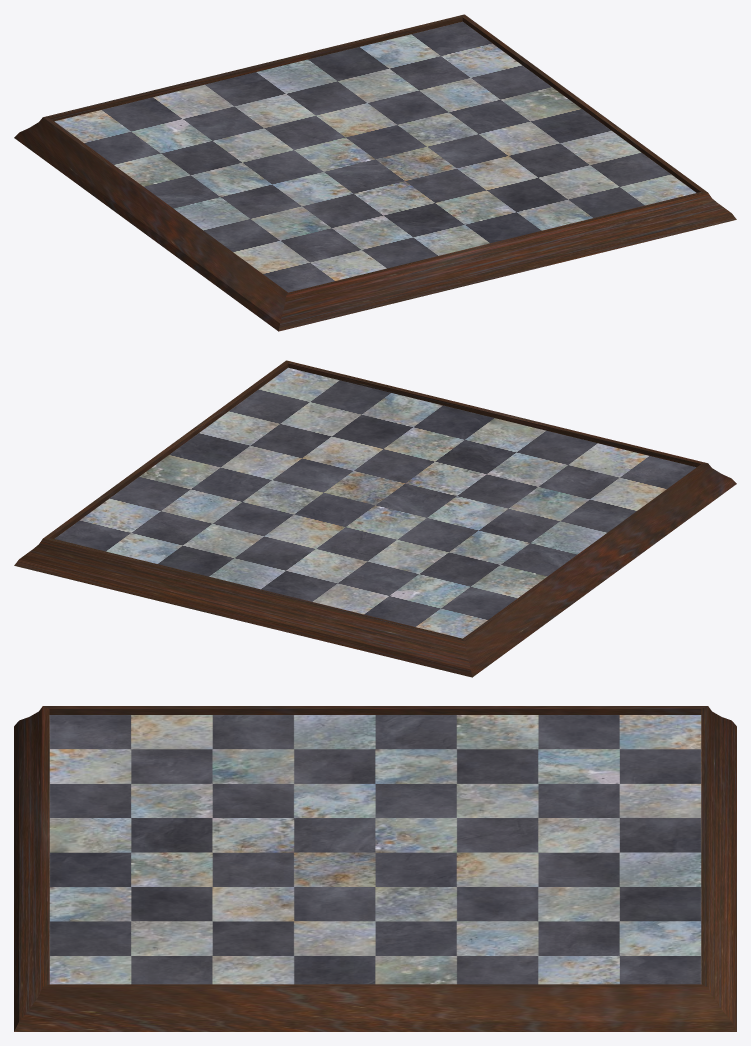
The model's file is board.obj.
3 views of the same model, one above another, from view 1: azimuth 30°, elevation 25°; view 2: azimuth 150°, elevation 25°; view 3: azimuth 270°, elevation 25° (orthographic). The views are drawn at different scales.
Visible parts, largest first — view 1: Cube; view 2: Cube; view 3: Cube.
Part boxes in pixels (bbox=[...]): Cube: bbox=[14, 14, 736, 331]; Cube: bbox=[14, 360, 736, 677]; Cube: bbox=[14, 706, 736, 1031].
Size of the model in its own units: 8.88 by 0.4413 by 8.88.
Materials: 2 (2 with a texture image).
